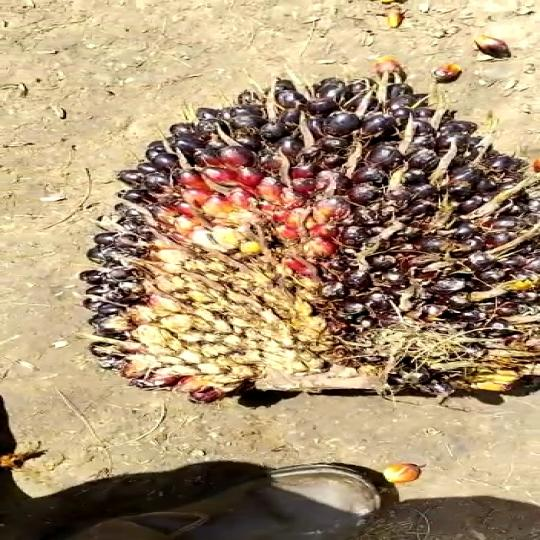mentah: (87, 56, 540, 408)
